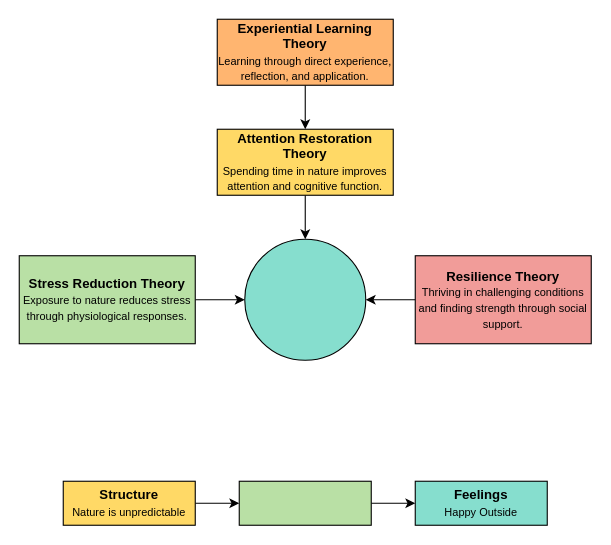
This 611x545 diagram has some shape labels left out. The centre of each missing label's shape, as x and y in pixels:
Classroom Climate Smaller matters: (x=304, y=502)
Improved Student Mental Wellbeing: (x=305, y=299)
